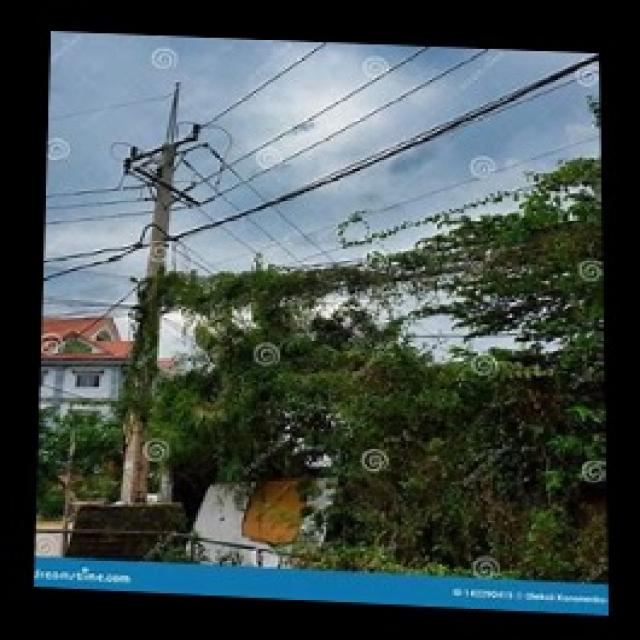critical vegetation: (166, 233, 606, 374)
